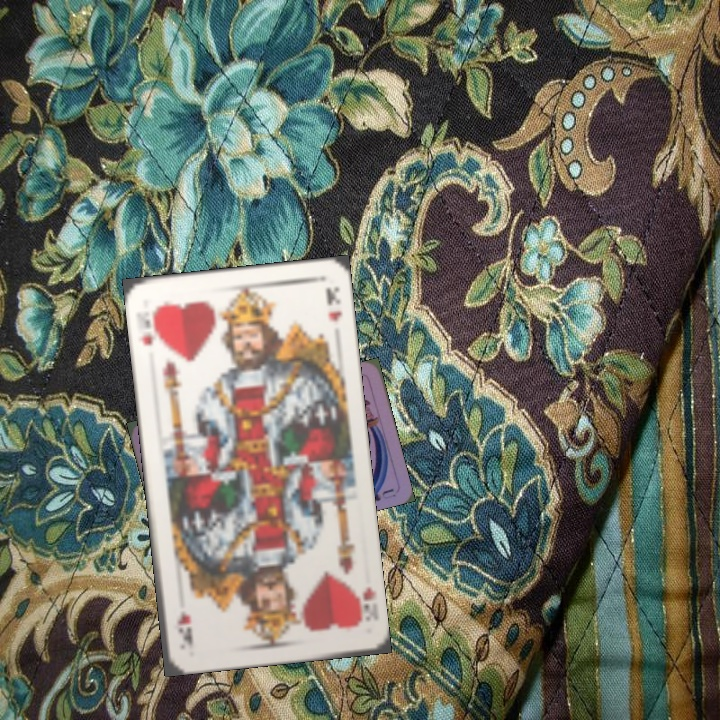HK: (349, 582, 377, 629), (137, 302, 163, 348)
